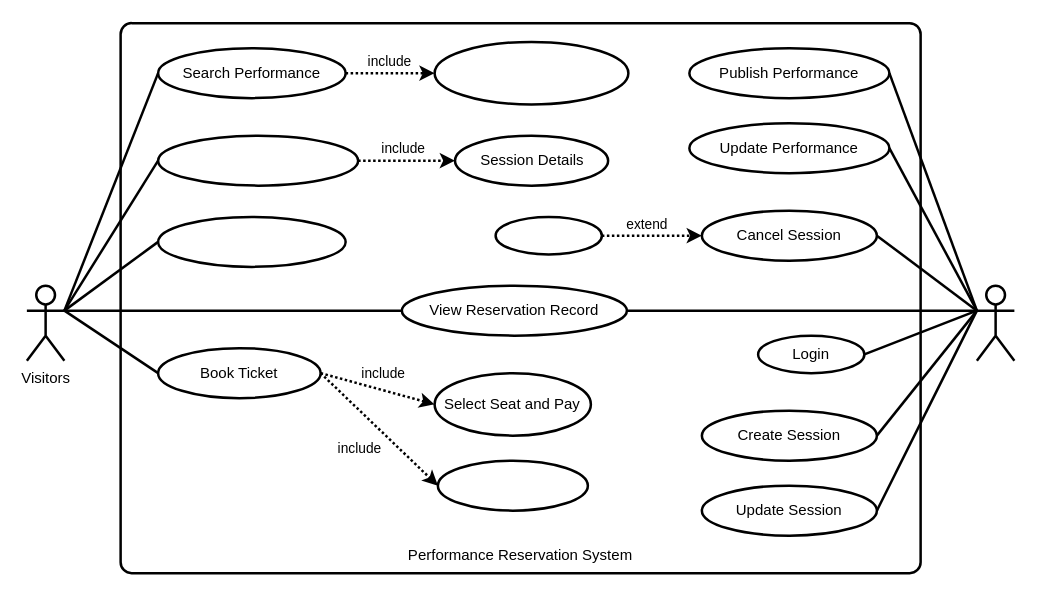
This 1061x595 diagram has some shape labels left out. Each missing label, with the centre of its shape:
Administrator: (995,322)
Cancel Reservation: (251,241)
Enter Information: (512,485)
Name and Instruction of Performance: (531,72)
Refund: (548,235)
View Performance Detail: (257,160)
